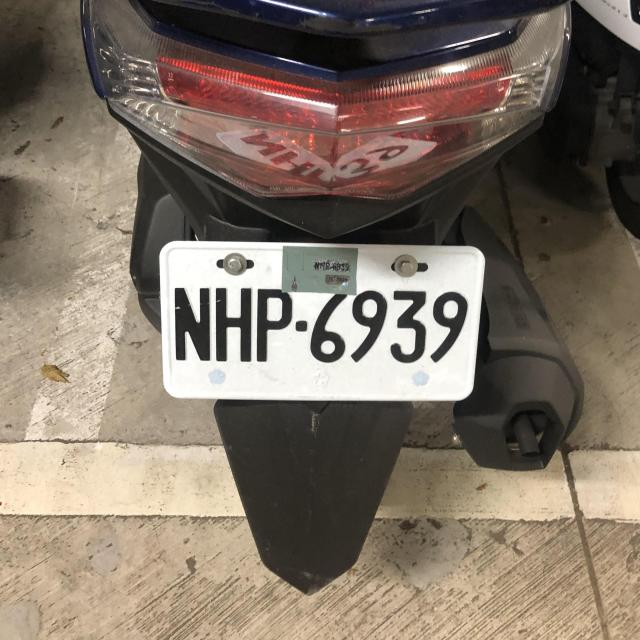W: (156, 233, 487, 409)
